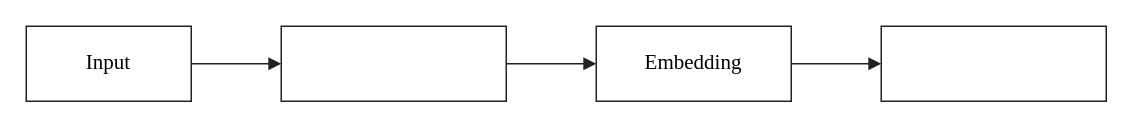
The diagram is 1133 pixels wide and 128 high, and some of its shapes have lost their labels. Each missing label, with the box of its shape:
Feature Extractor: (280, 25, 506, 101)
Prediction Head: (880, 25, 1106, 101)
